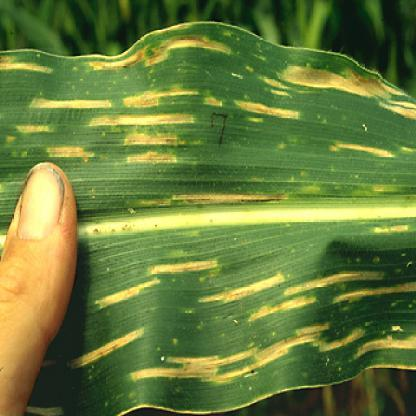Corn Gray leaf spot: (83, 28, 415, 412)
